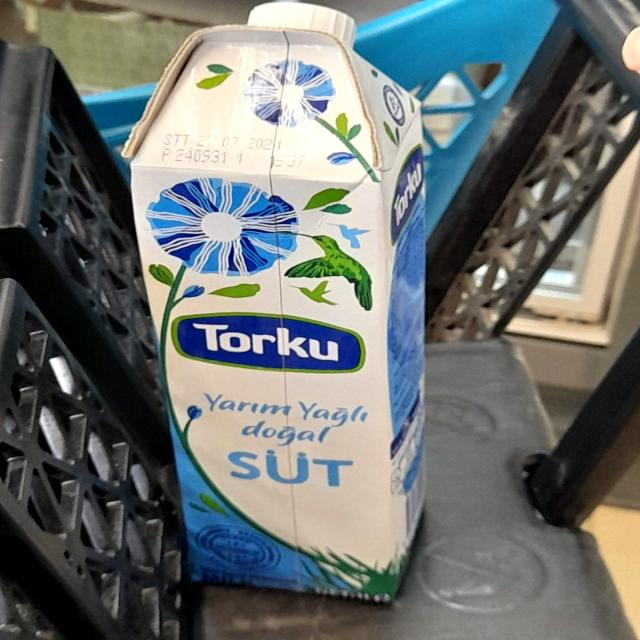milk: (110, 2, 482, 604)
